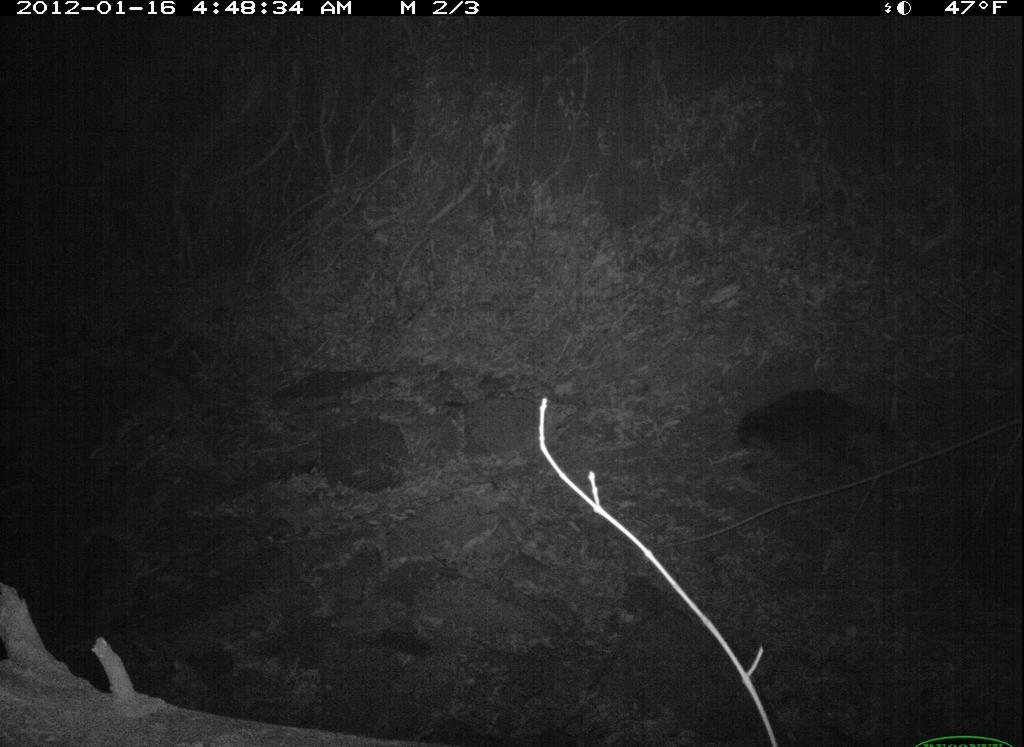raccoon: (729, 378, 913, 493)
